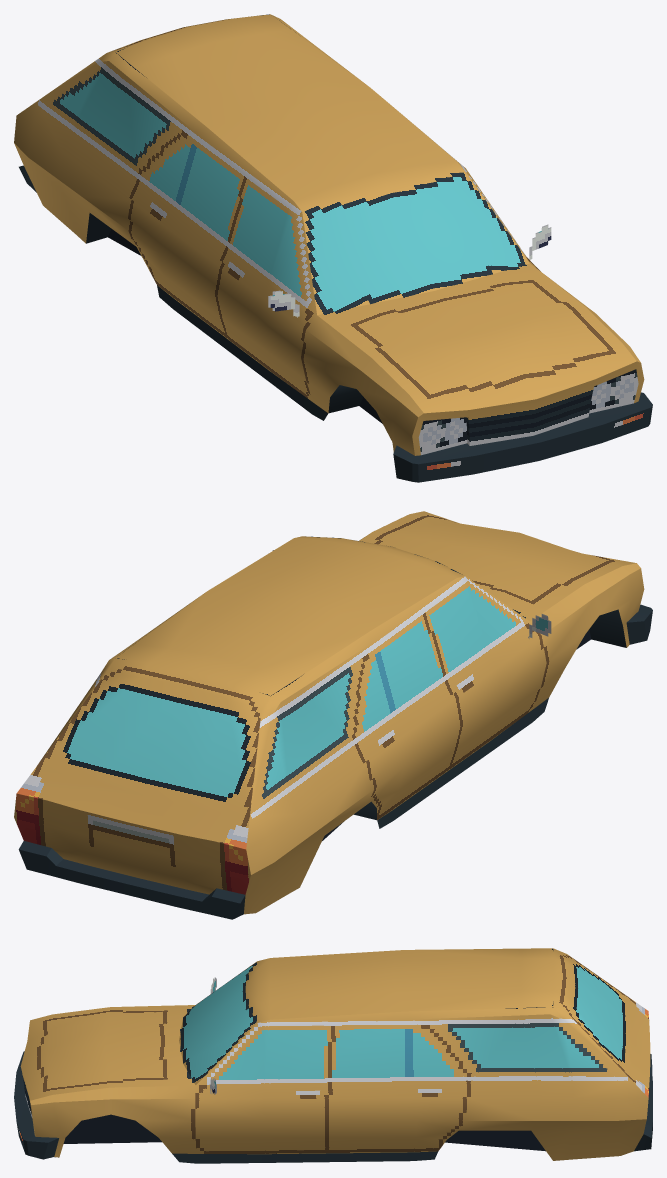
File: peugeot504break.glb
3 views of the same model, one above another, from view 1: azimuth 30°, elevation 25°; view 2: azimuth 150°, elevation 25°; view 3: azimuth 270°, elevation 25° (orthographic). The views are drawn at different scales.
Parts seen in each view (by area): view 1: Body; view 2: Body; view 3: Body.
Part boxes in pixels (<box>): Body: <box>14,14,652,482</box>; Body: <box>14,511,652,919</box>; Body: <box>14,948,652,1163</box>.
Size of the model in its own units: 1.89 by 1.23 by 4.76.
1 material, 1 textured.
